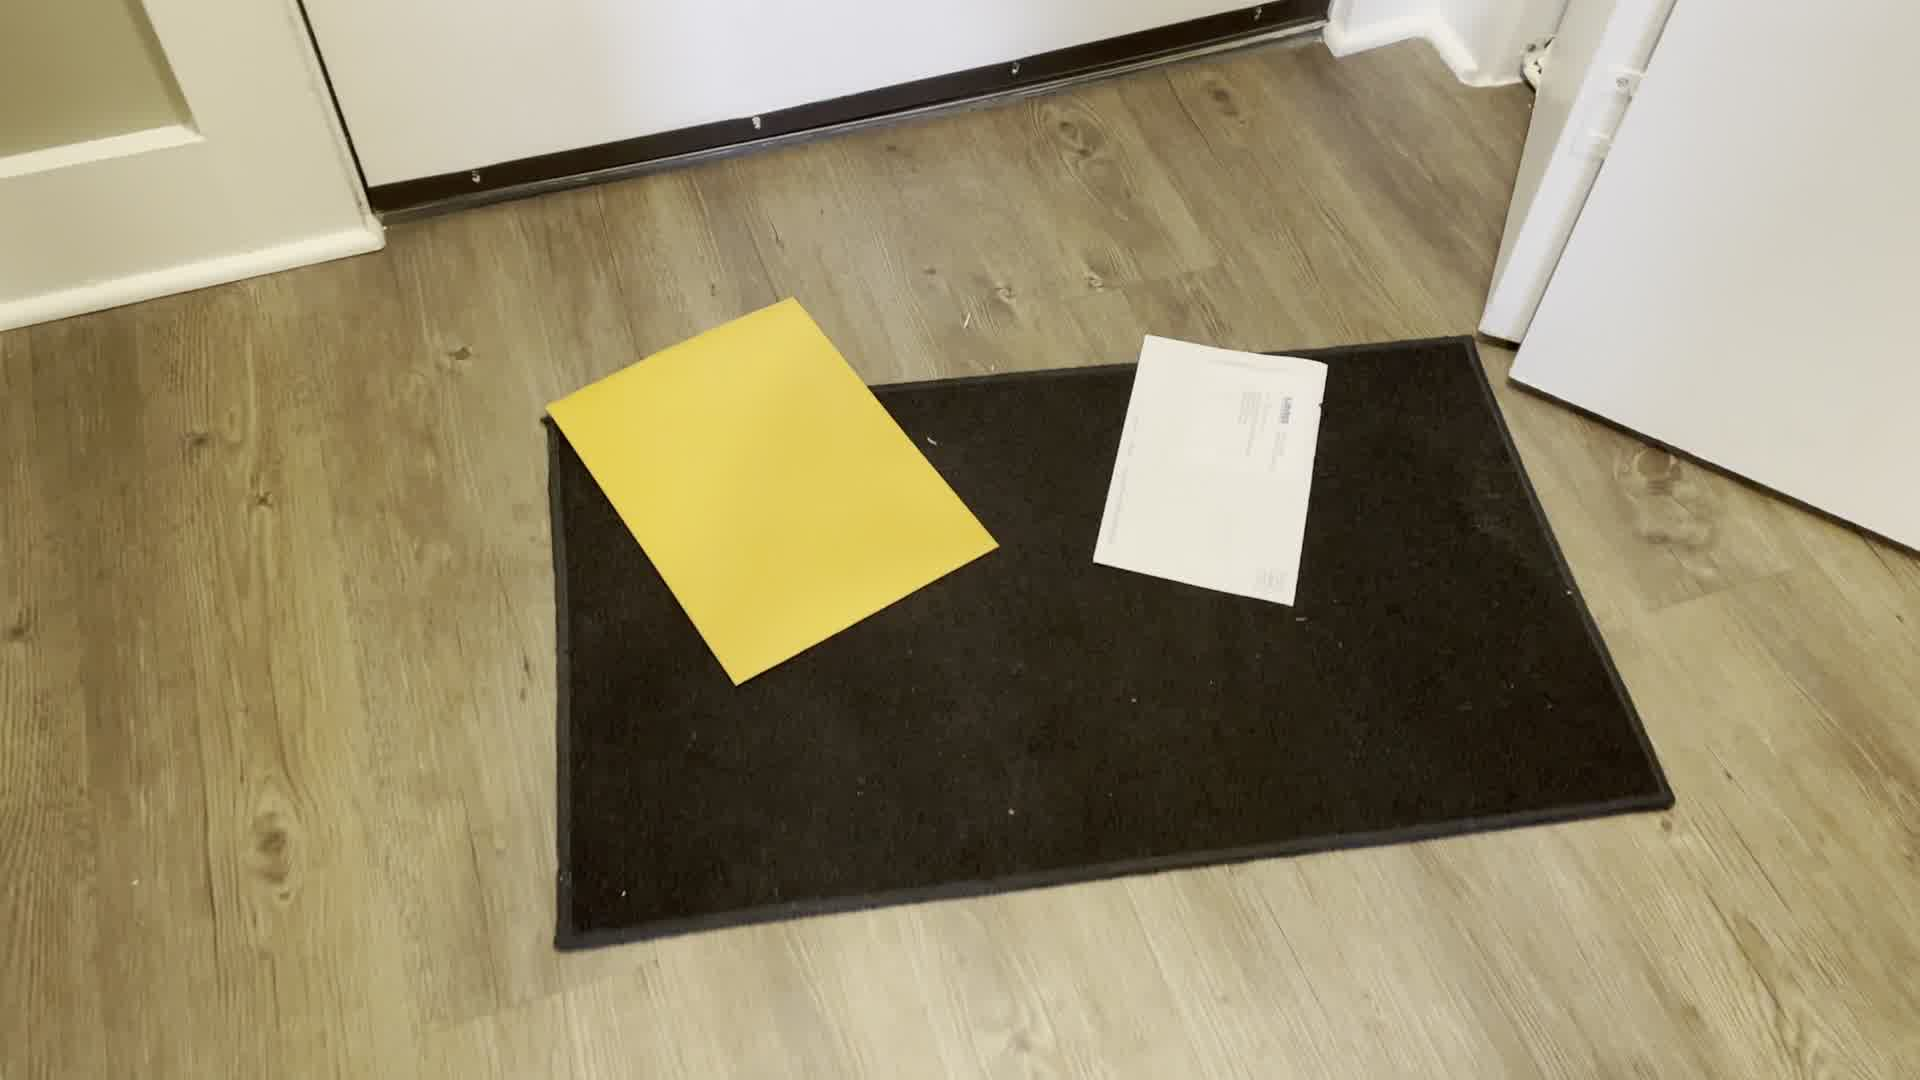envelope: (542, 290, 1002, 688), (1081, 327, 1336, 612)
